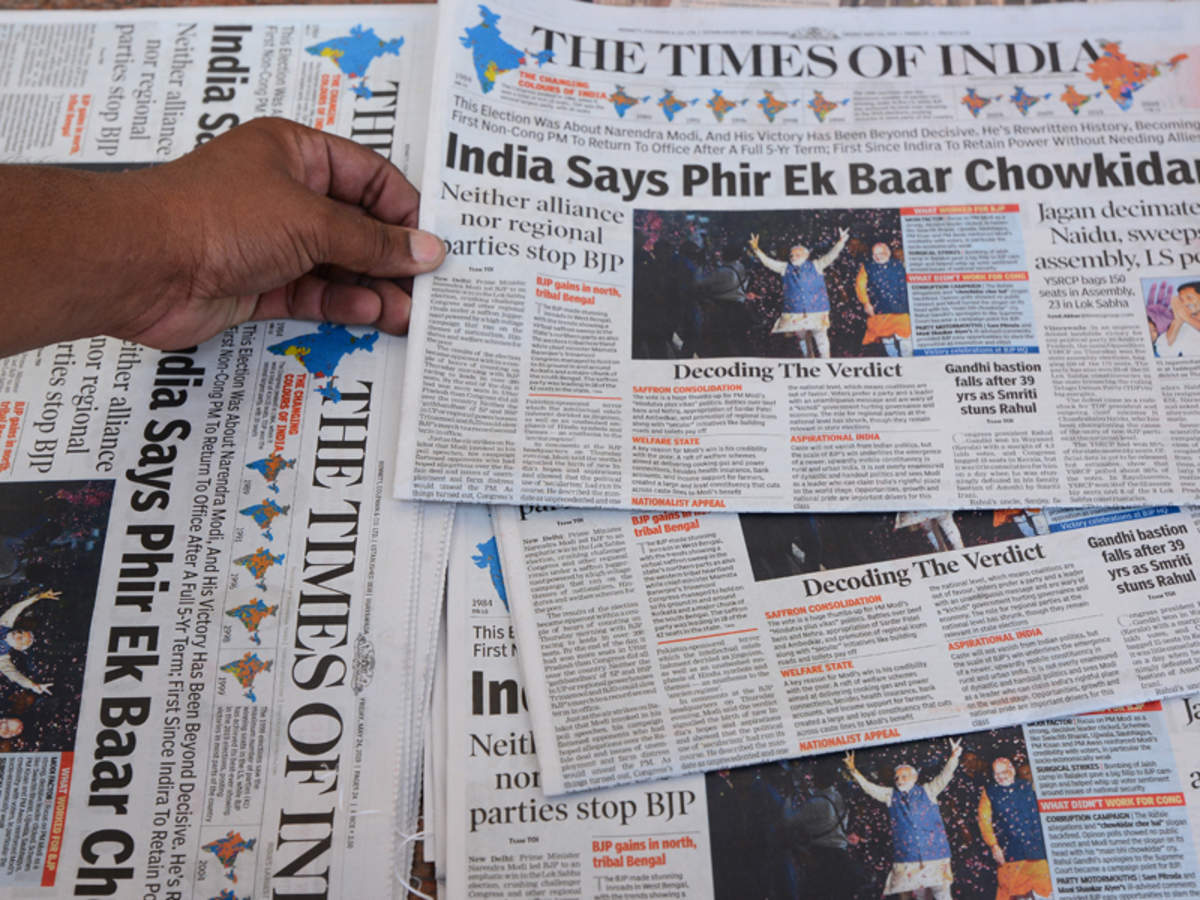news_paper: (380, 1, 1199, 535), (1, 8, 445, 900), (431, 510, 1200, 895), (474, 538, 1200, 808)
